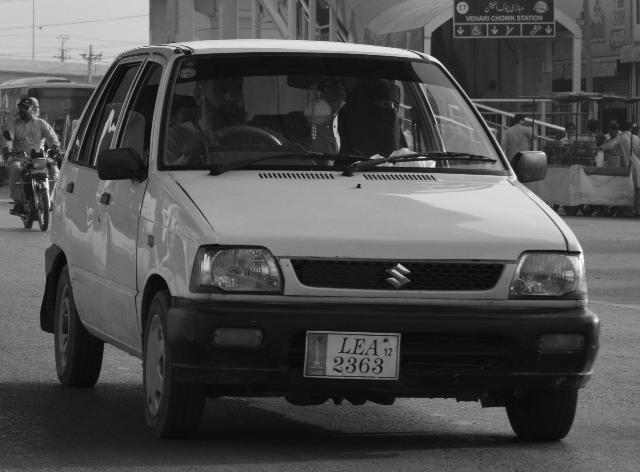Number: (331, 339, 384, 375)
